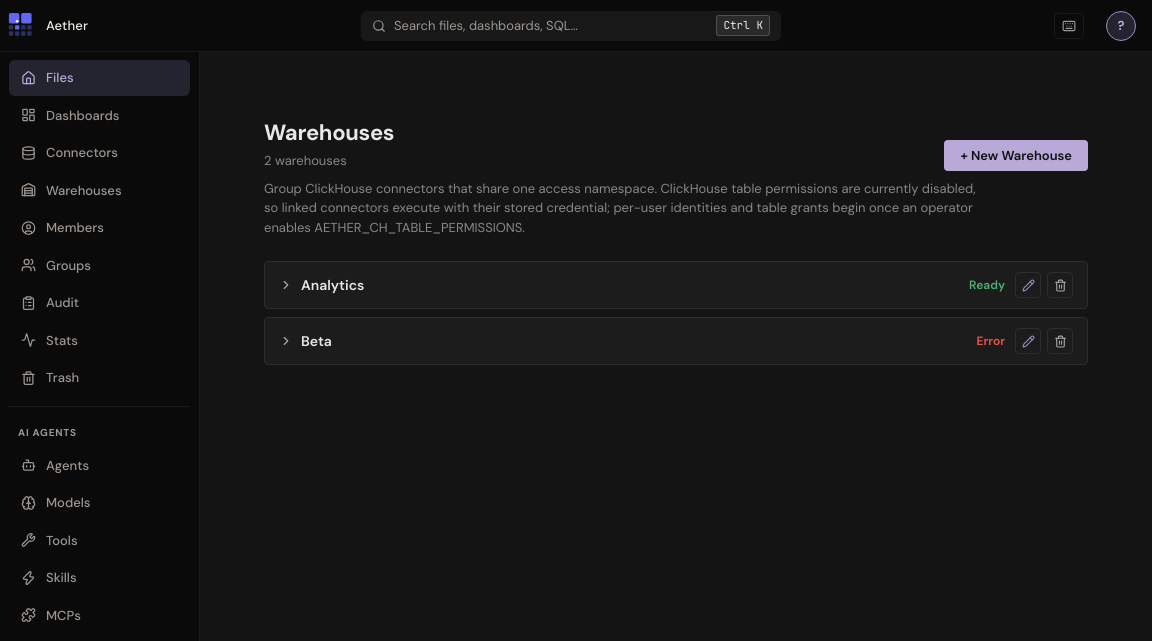
Test: WarehouseSettingsPage › does not claim enforcement while table permissions are disabled
Expected: the text "Analytics" is shown, [301,276,364,294]
Expected: the text "table permissions are currently disabled" is shown, [264,180,976,236]
What coordinates should you click on to do the following:
click the button "Analytics"
I would click on:
 (333, 285)
Its box is [279,276,959,294].
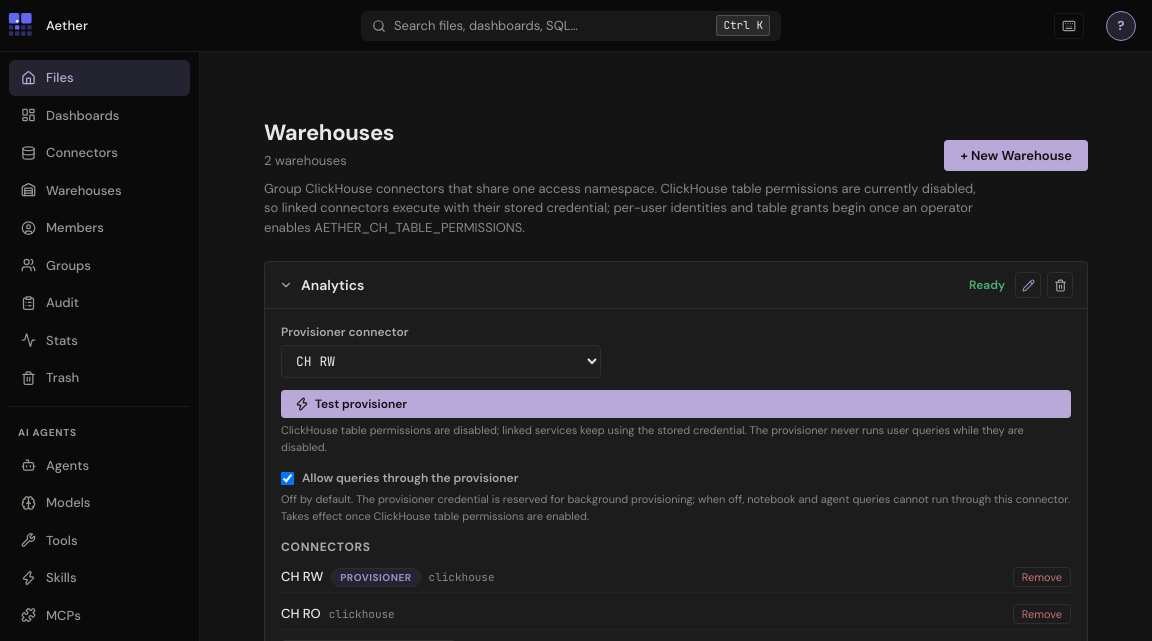
Now the text "keep using the stored credential" is shown, box [281,423,1024,454]
# The delete confirmation must not promise identity revocation either.
What coordinates should you click on to do the following:
click the button named "Delete warehouse"
I would click on:
 (1060, 285)
Its box is [1047,272,1073,298].
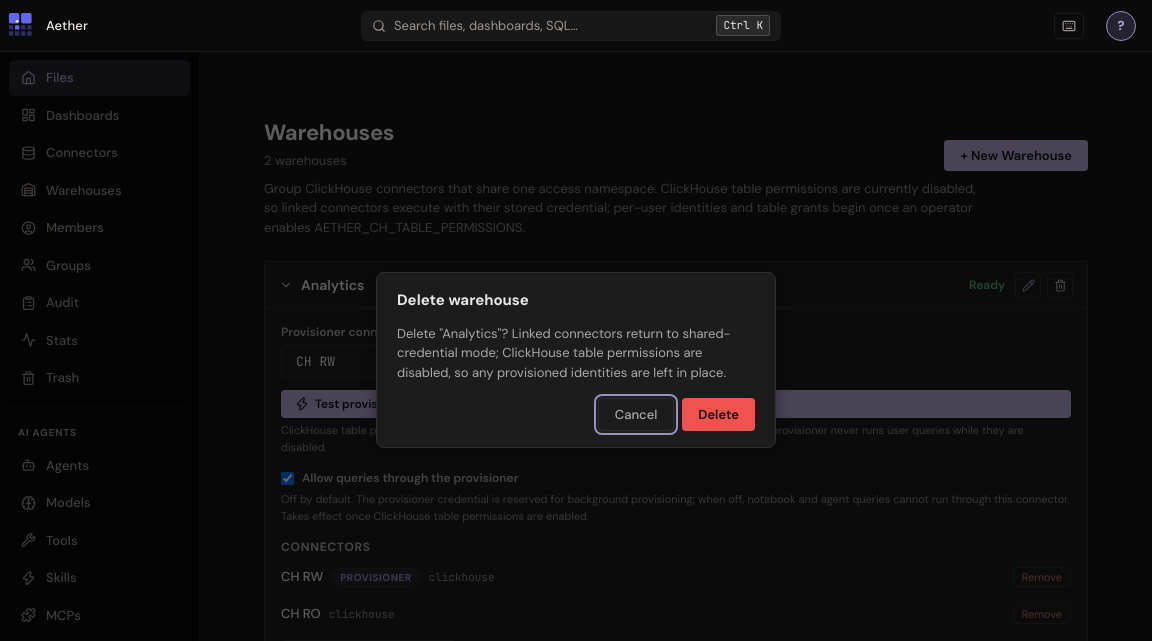
Now the text "any provisioned identities are left in place" is shown, box [397,324,731,380]
